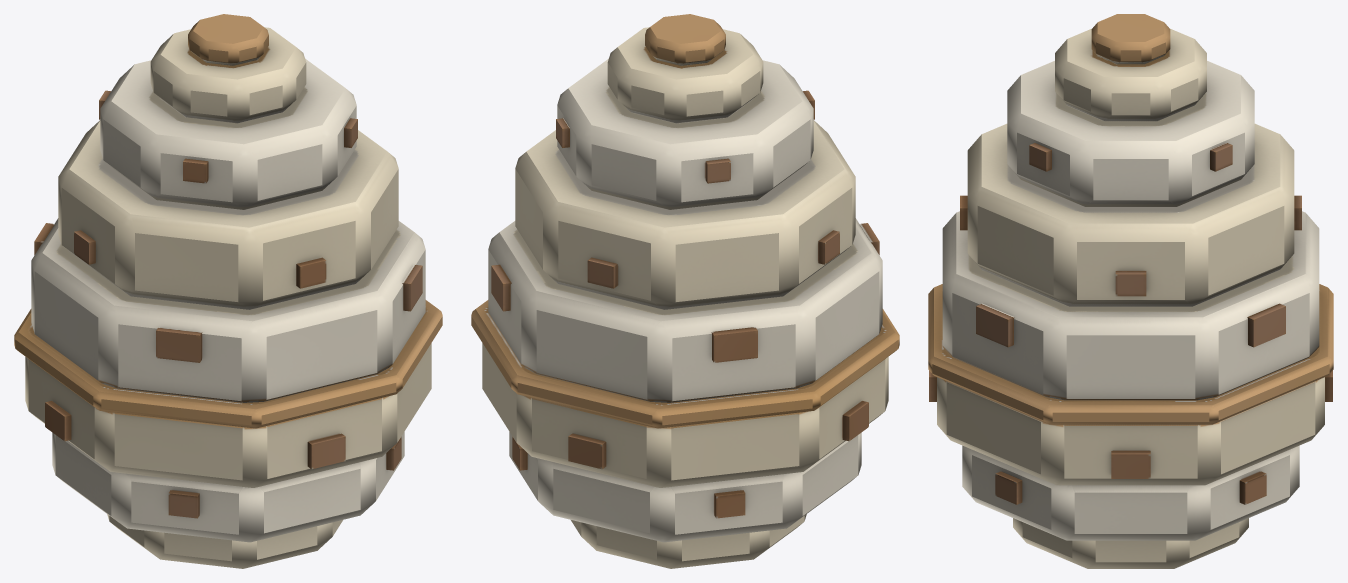
The model's file is OeufCommun_Rig.fbx.
The picture shows the model from 3 angles, left to right: view 1: azimuth 30°, elevation 25°; view 2: azimuth 150°, elevation 25°; view 3: azimuth 270°, elevation 25°; orthographic projection.
Visible parts, largest first — view 1: Middle, Top, Upper, Lower, Bottom; view 2: Middle, Top, Upper, Lower, Bottom; view 3: Middle, Top, Upper, Lower, Bottom.
Boxes of the visible parts, x1=… form: Middle: x1=31, y1=218, x2=425, y2=402; Top: x1=99, y1=14, x2=357, y2=209; Upper: x1=58, y1=120, x2=398, y2=309; Lower: x1=14, y1=300, x2=442, y2=487; Bottom: x1=52, y1=432, x2=404, y2=568; Middle: x1=488, y1=218, x2=882, y2=402; Top: x1=556, y1=14, x2=814, y2=209; Upper: x1=515, y1=120, x2=855, y2=309; Lower: x1=471, y1=300, x2=899, y2=487; Bottom: x1=509, y1=432, x2=861, y2=568; Middle: x1=942, y1=211, x2=1319, y2=400; Top: x1=1007, y1=14, x2=1254, y2=206; Upper: x1=960, y1=123, x2=1301, y2=306; Lower: x1=928, y1=284, x2=1333, y2=485; Bottom: x1=962, y1=445, x2=1299, y2=568.
Size of the model in its own units: 4.43 by 6 by 4.43.
Materials: 1 (1 with a texture image).
